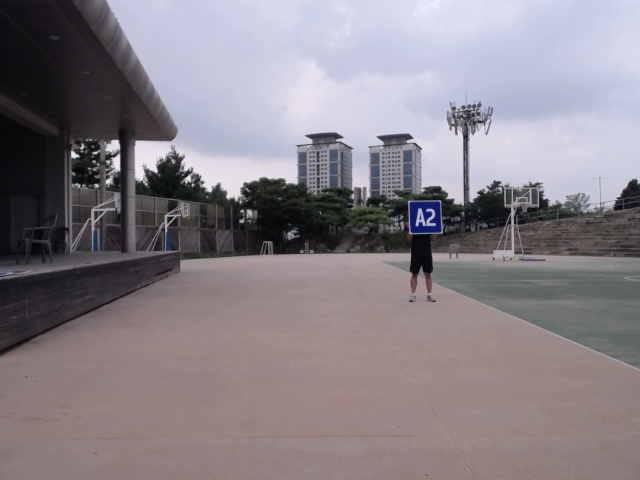delivery_a2: (409, 201, 442, 233)
